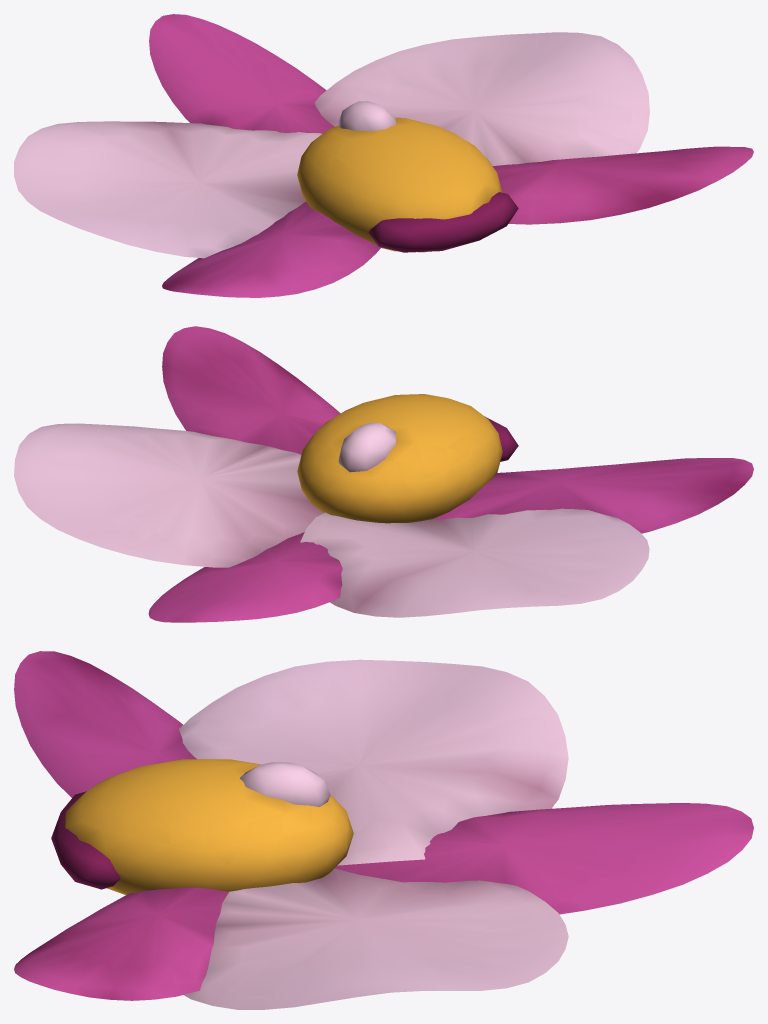
Rendered from canopy_orchid_bloom.glb.
3 renders of one model, top to bottom at view 1: azimuth 30°, elevation 25°; view 2: azimuth 150°, elevation 25°; view 3: azimuth 270°, elevation 25°, orthographic. The views are drawn at different scales.
Visible parts, largest first — view 1: canopy_orchid_bloom; view 2: canopy_orchid_bloom; view 3: canopy_orchid_bloom.
Boxes of the visible parts, <box> form: canopy_orchid_bloom: <box>14,14,753,297</box>; canopy_orchid_bloom: <box>14,326,753,622</box>; canopy_orchid_bloom: <box>14,651,753,1009</box>.
Bounding box in the file's own units: 5.34 × 0.8976 × 4.79.
